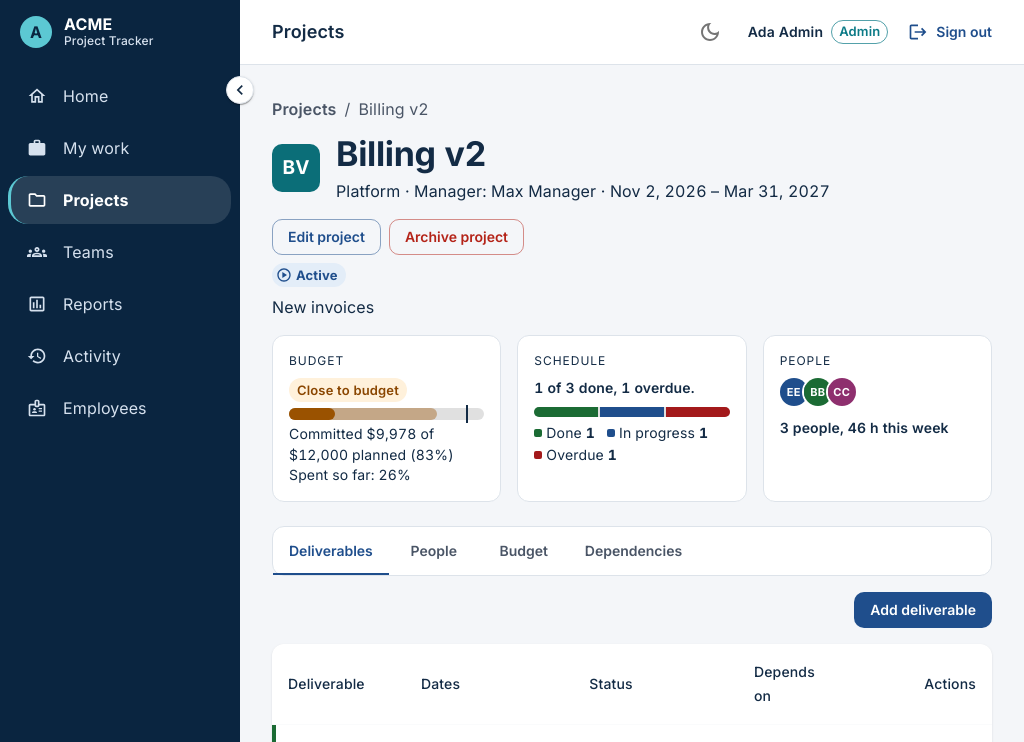
Dependencies tab › marks overdue and blocked deliverables against today’s date
This screenshot has width=1024, height=742.
Click the tab "Dependencies": (633, 550) [569,526,698,574]
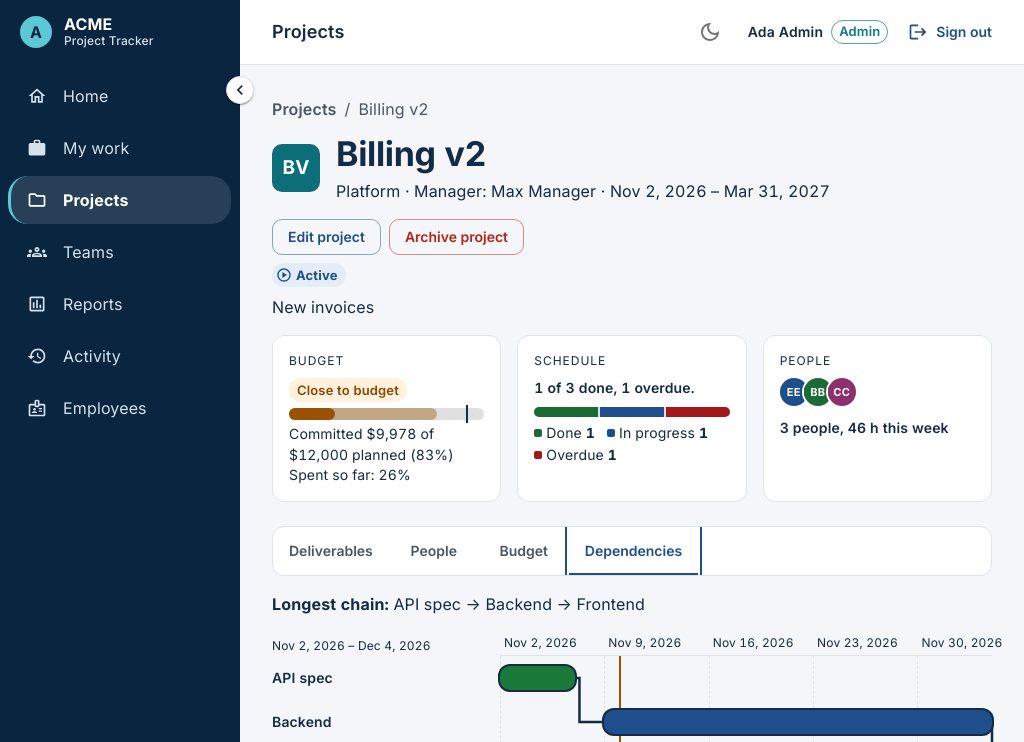
Result: the picture named "Backend: in progress, starts" is shown at [604,710,992,734]
